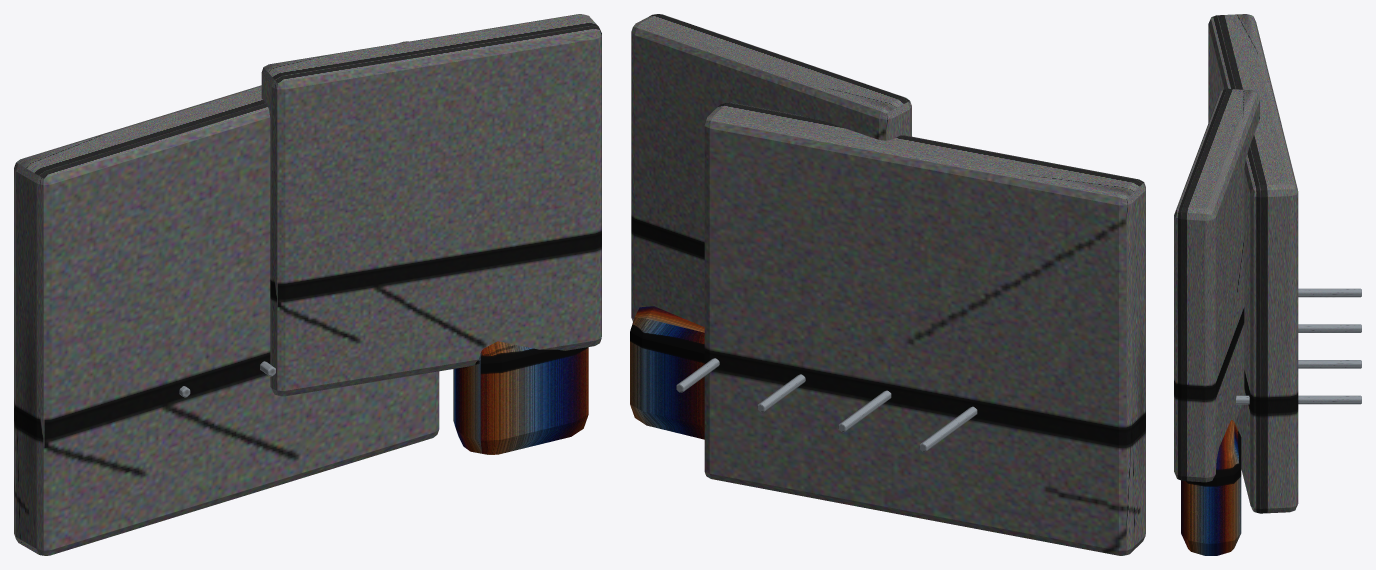
File: damaged_slab.glb
The picture shows the model from 3 angles, left to right: view 1: azimuth 30°, elevation 25°; view 2: azimuth 150°, elevation 25°; view 3: azimuth 270°, elevation 25°; orthographic projection. The views are drawn at different scales.
Visible parts, largest first — view 1: BrokenSlabA, BrokenSlabB, BrokenDebris; view 2: BrokenSlabA, BrokenSlabB, BrokenDebris, BrokenRebar0, BrokenRebar1; view 3: BrokenSlabA, BrokenSlabB, BrokenDebris, BrokenRebar3, BrokenRebar0, BrokenRebar1, BrokenRebar2.
Part boxes in pixels (left/top/right/bottom): BrokenSlabA: left=14, top=41, right=439, bottom=555; BrokenSlabB: left=261, top=14, right=601, bottom=396; BrokenDebris: left=453, top=341, right=588, bottom=454; BrokenSlabA: left=704, top=102, right=1145, bottom=555; BrokenSlabB: left=631, top=14, right=911, bottom=326; BrokenDebris: left=630, top=306, right=704, bottom=439; BrokenRebar0: left=919, top=406, right=977, bottom=451; BrokenRebar1: left=838, top=390, right=891, bottom=432; BrokenSlabA: left=1208, top=14, right=1298, bottom=513; BrokenSlabB: left=1174, top=88, right=1259, bottom=482; BrokenDebris: left=1181, top=420, right=1241, bottom=555; BrokenRebar3: left=1236, top=395, right=1361, bottom=404; BrokenRebar0: left=1298, top=288, right=1361, bottom=297; BrokenRebar1: left=1298, top=324, right=1361, bottom=332; BrokenRebar2: left=1298, top=360, right=1361, bottom=368.
Bounding box in the file's own units: 9.01 × 6.5 × 3.11.
3 materials, 3 textured.
